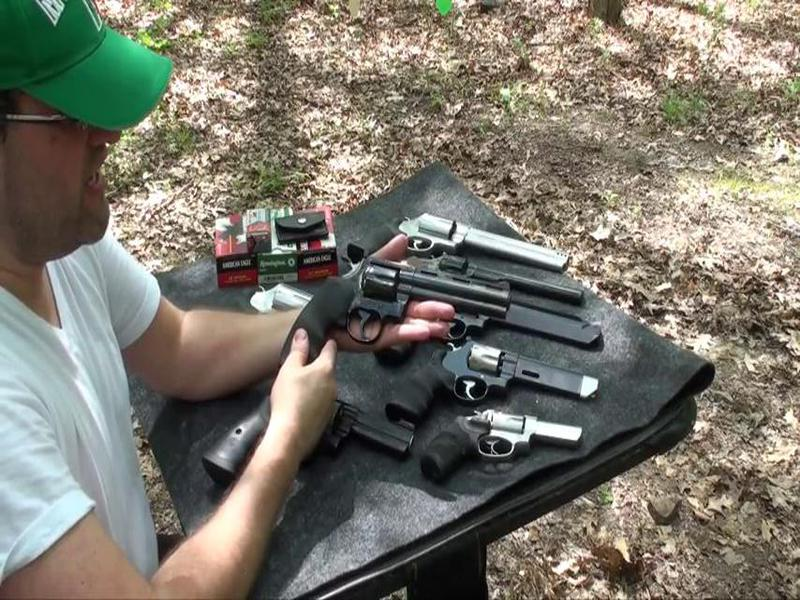Revolver: (273, 224, 542, 399)
